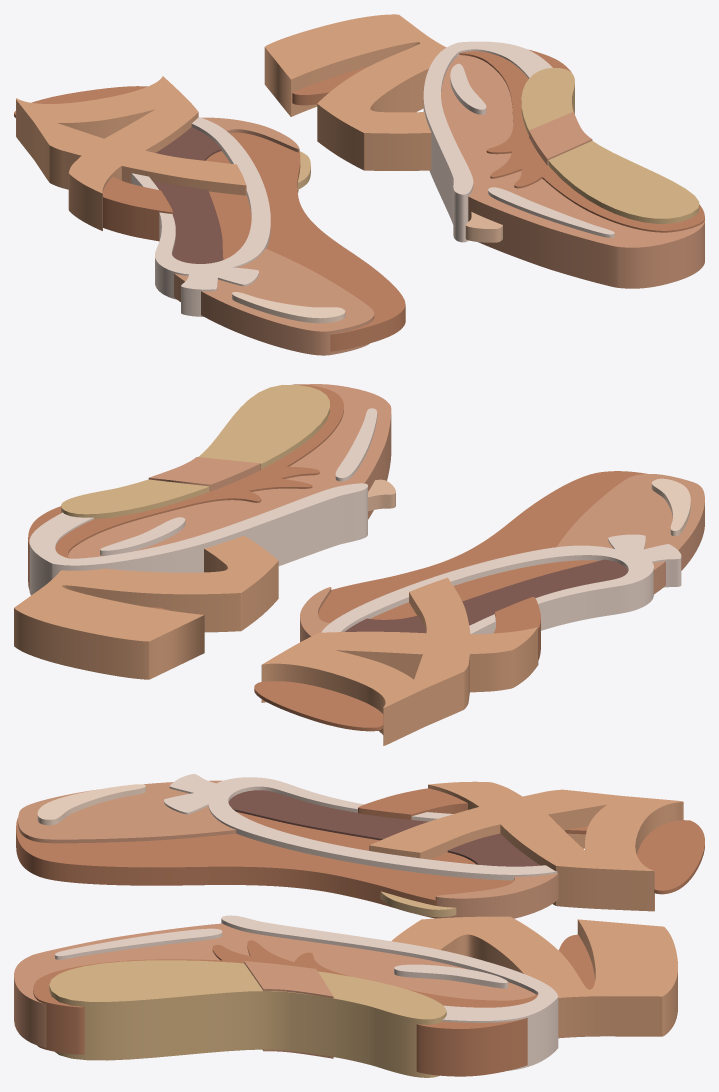
Rendered from emoji_u1fa70.glb.
The picture shows the model from 3 angles, top to bottom: view 1: azimuth 30°, elevation 25°; view 2: azimuth 150°, elevation 25°; view 3: azimuth 270°, elevation 25°; orthographic projection. The views are drawn at different scales.
Parts seen in each view (by area): view 1: emoji_u1fa70; view 2: emoji_u1fa70; view 3: emoji_u1fa70.
Boxes of the visible parts, left/top/right/bottom form: emoji_u1fa70: left=14, top=14, right=704, bottom=355; emoji_u1fa70: left=14, top=384, right=704, bottom=745; emoji_u1fa70: left=14, top=774, right=704, bottom=1077.
Size of the model in its own units: 0.031 by 0.0034 by 0.0342.
